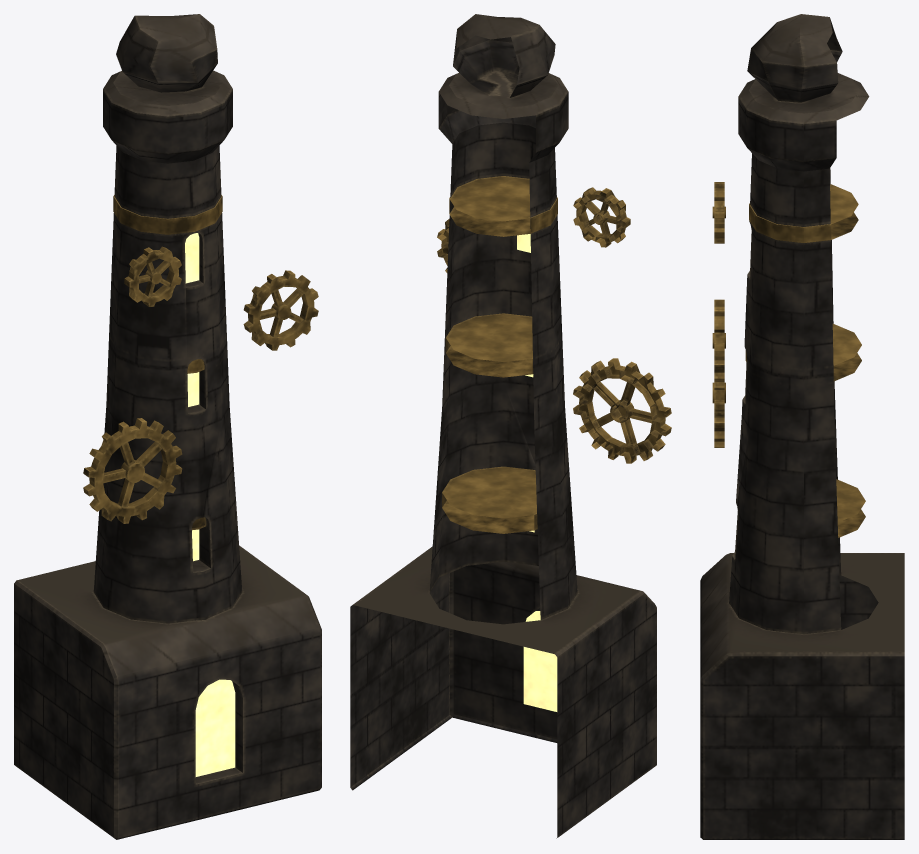
Rendered from ClockLung_BG_Far_A.fbx.
3 views of the same model, side by side, from view 1: azimuth 30°, elevation 25°; view 2: azimuth 150°, elevation 25°; view 3: azimuth 270°, elevation 25° (orthographic).
Parts seen in each view (by area): view 1: ClockLung_BG_Far_A; view 2: ClockLung_BG_Far_A; view 3: ClockLung_BG_Far_A.
Boxes of the visible parts, <box> form: ClockLung_BG_Far_A: <box>14,14,321,839</box>; ClockLung_BG_Far_A: <box>350,14,671,838</box>; ClockLung_BG_Far_A: <box>700,14,904,839</box>.
Size of the model in its own units: 7.76 by 24.46 by 5.92.
